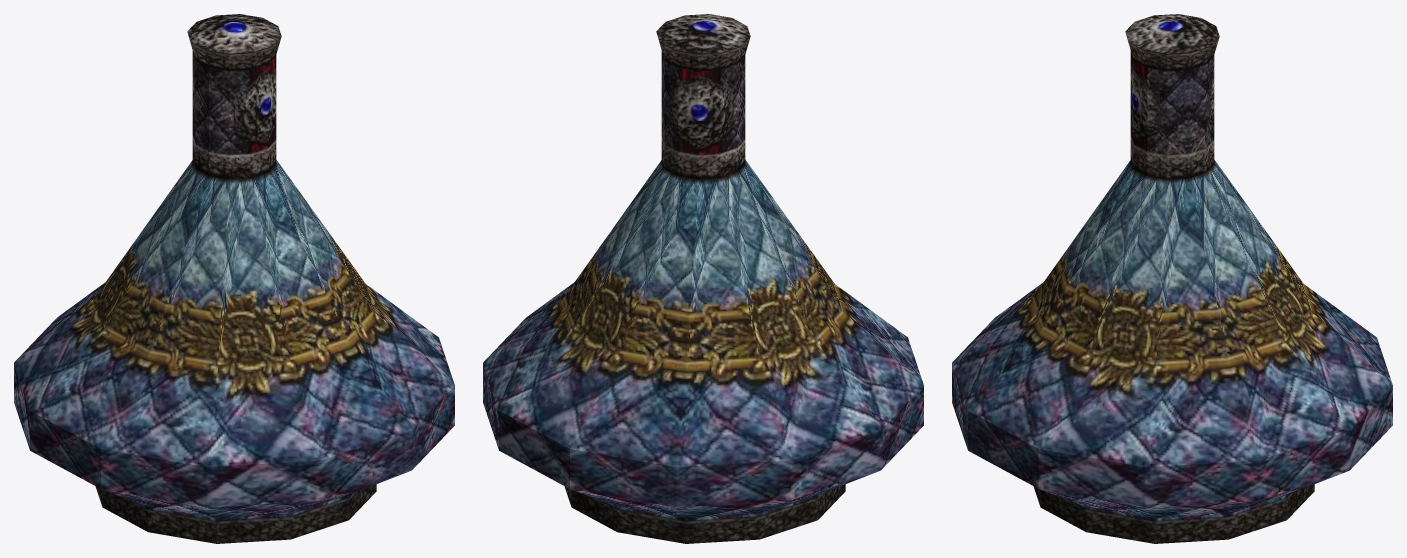
The model's file is ITPO_MANA_03.glb.
3 renders of one model, left to right at view 1: azimuth 30°, elevation 25°; view 2: azimuth 150°, elevation 25°; view 3: azimuth 270°, elevation 25°, orthographic.
Parts seen in each view (by area): view 1: ITPO_MANA_03; view 2: ITPO_MANA_03; view 3: ITPO_MANA_03.
Part boxes in pixels (left/top/right/bottom): ITPO_MANA_03: left=14, top=14, right=454, bottom=543; ITPO_MANA_03: left=483, top=14, right=923, bottom=543; ITPO_MANA_03: left=952, top=14, right=1392, bottom=543.
Bounding box in the file's own units: 0.2977 × 0.3426 × 0.2977.
1 material, 1 textured.
